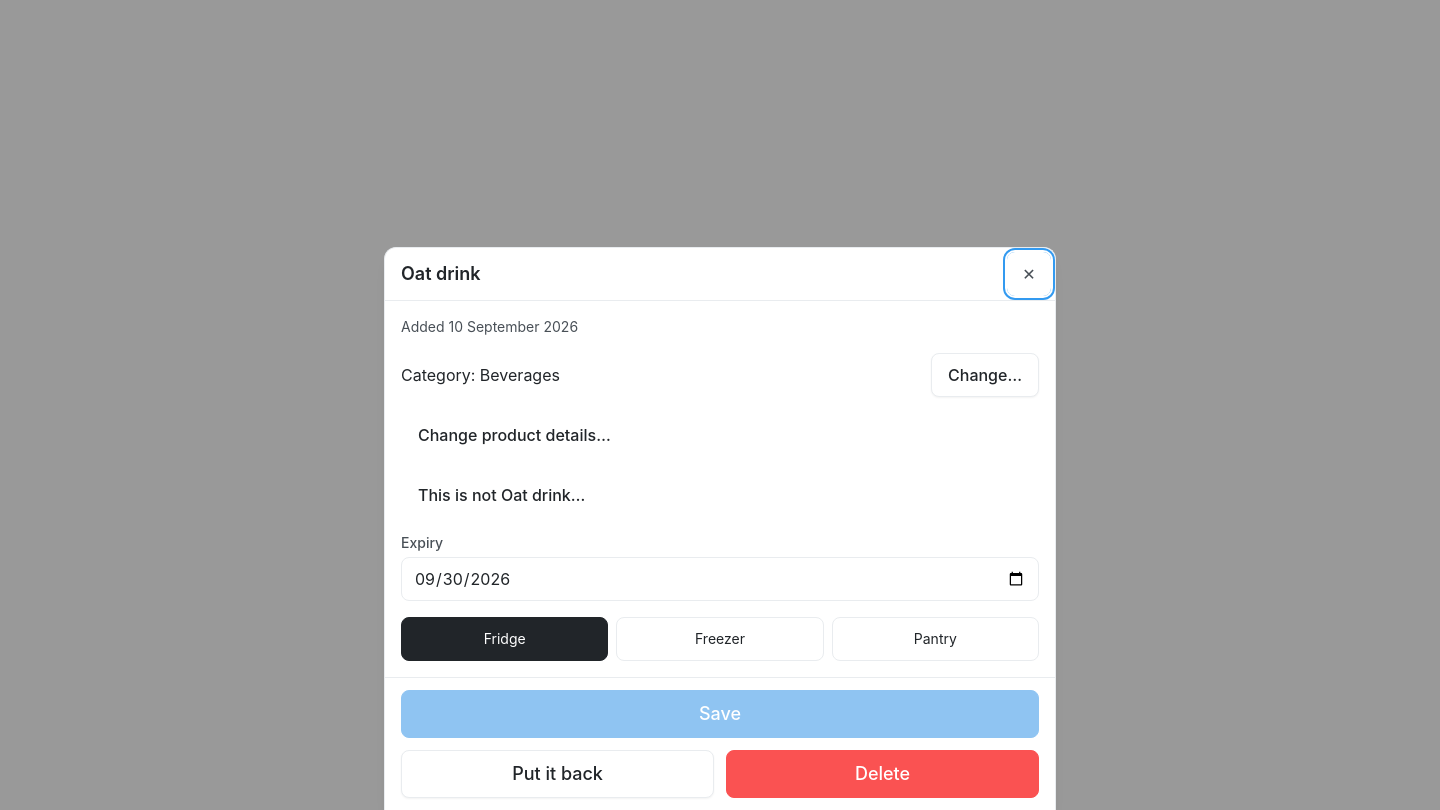
Test case: ItemEditSheet › puts a gone item back
The width and height of the screenshot is (1440, 810).
Step 1. Click the button "Put it back" → (558, 774), box [401,750,714,798]
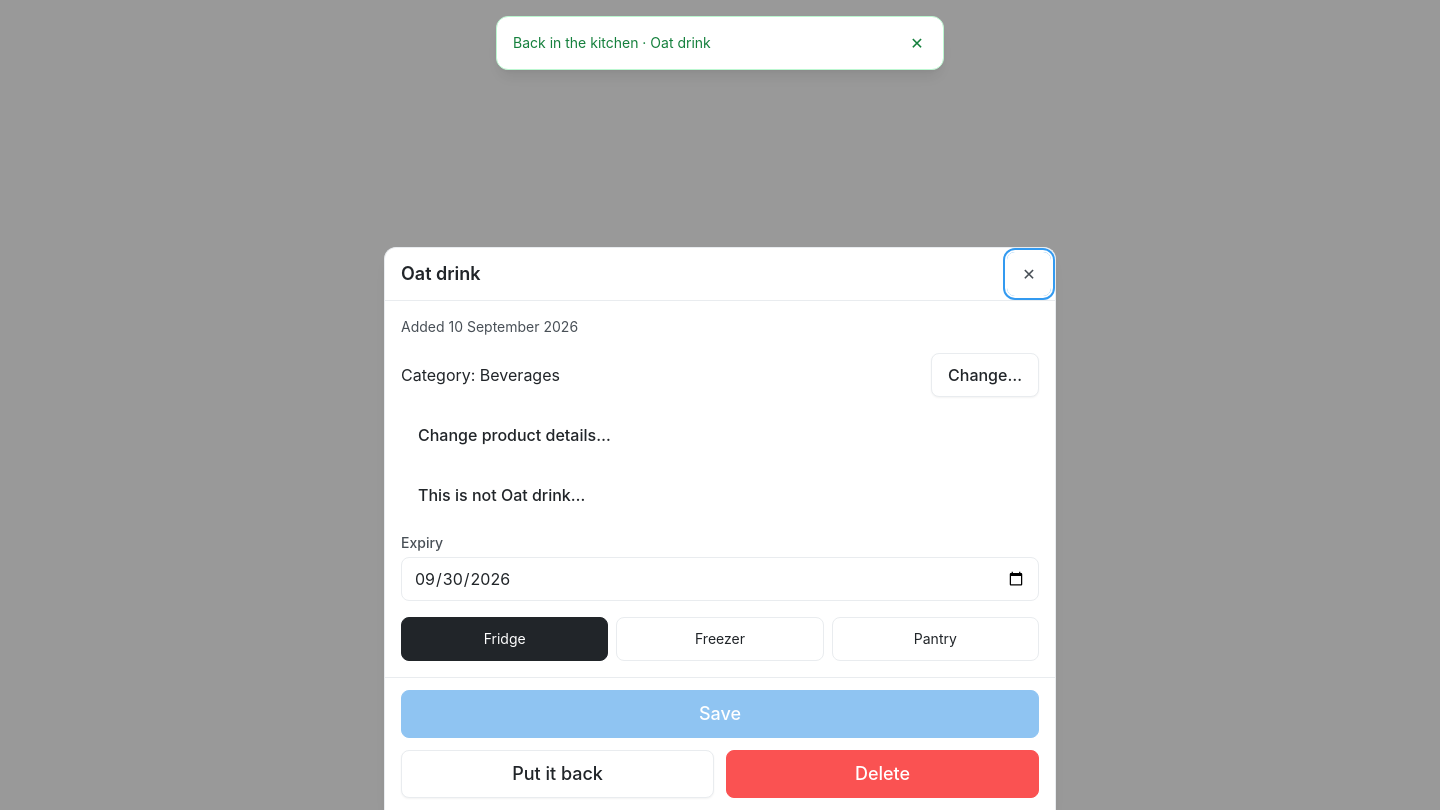
Result: the text "Back in the kitchen · Oat drink" is shown at [513,34,711,51]
